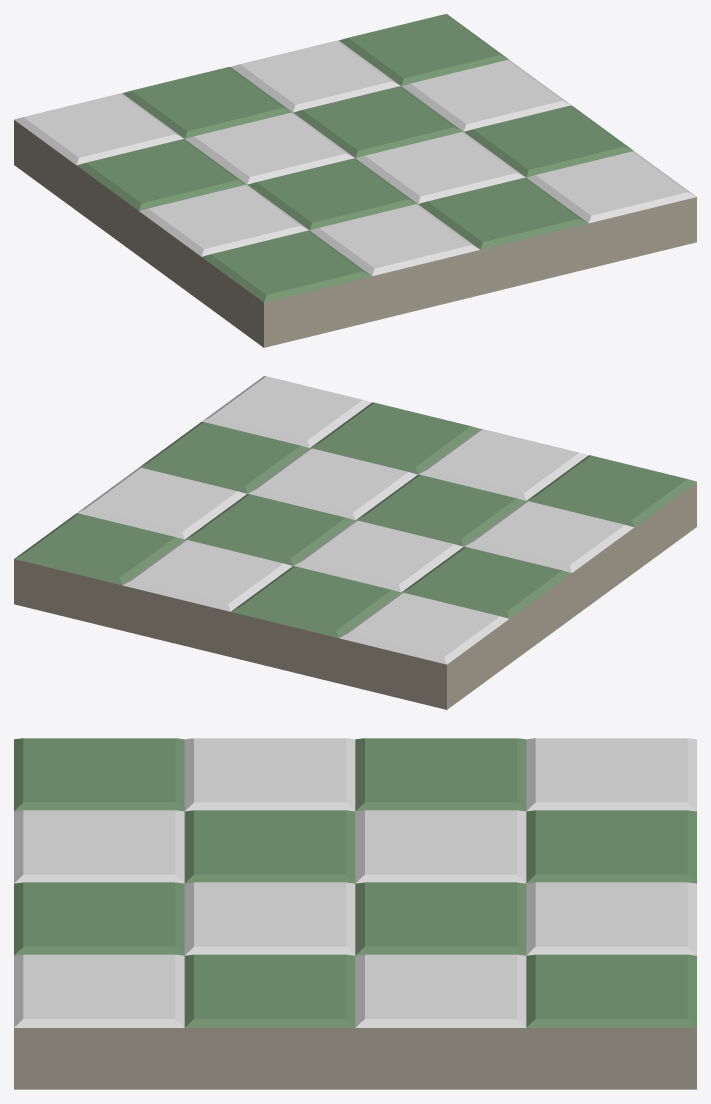
Rendered from Mesh_GroundCeramic_K2.fbx.
3 renders of one model, top to bottom at view 1: azimuth 30°, elevation 25°; view 2: azimuth 150°, elevation 25°; view 3: azimuth 270°, elevation 25°, orthographic. The views are drawn at different scales.
Visible parts, largest first — view 1: Mesh_GroundCeramic_K2; view 2: Mesh_GroundCeramic_K2; view 3: Mesh_GroundCeramic_K2.
Boxes of the visible parts, bbox=[...] form: Mesh_GroundCeramic_K2: bbox=[14, 14, 696, 347]; Mesh_GroundCeramic_K2: bbox=[14, 376, 696, 709]; Mesh_GroundCeramic_K2: bbox=[14, 738, 696, 1089].
Bounding box in the file's own units: 1 × 0.1082 × 1.
